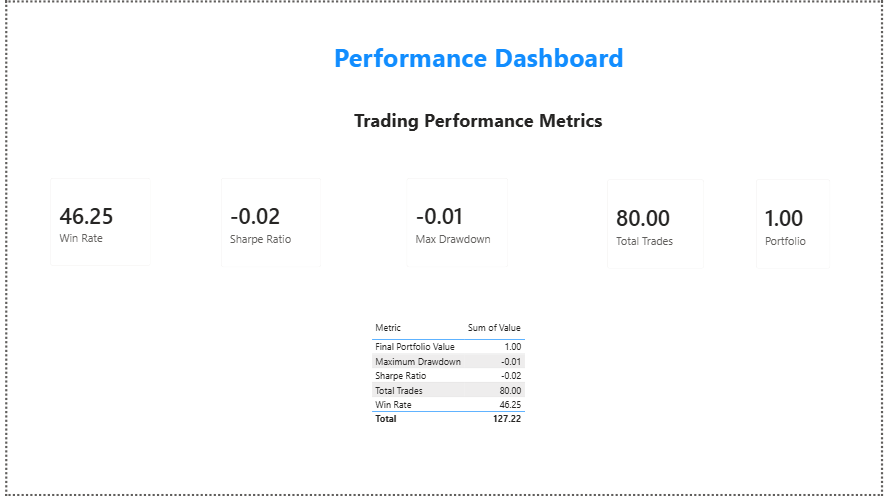

This screenshot's page, from the dashboard's own definition file:
{"tool":"powerbi","page":{"name":"Performance Dashboard","canvas":[1280,720],"ordinal":1},"visuals":[{"type":"textbox","box":[10,0,1186,218],"z":0},{"type":"cardVisual","fields":{"Data":["Sum(performance_summary.Value)"]},"box":[46.7,240,181.7,163.3],"z":1000},{"type":"cardVisual","fields":{"Data":["Sum(performance_summary.Value)"]},"box":[296.7,240,181.7,165],"z":2000},{"type":"cardVisual","fields":{"Data":["Sum(performance_summary.Value)"]},"box":[568.3,240,183.3,165],"z":3000},{"type":"cardVisual","fields":{"Data":["Sum(performance_summary.Value)"]},"box":[1080,241.7,143.3,165],"z":4000},{"type":"cardVisual","fields":{"Data":["Sum(performance_summary.Value)"]},"box":[861.7,241.7,176.7,165],"z":5000},{"type":"tableEx","fields":{"Values":["performance_summary.Metric","Sum(performance_summary.Value)"]},"box":[528.3,460,261.7,211.7],"z":6000}]}

Visuals, with their boxes in screenshot pixels (x1, y1, x2, y2), scaled from the page's 1280x720 canvas onto the 885x497 screenshot:
textbox: {"left": 7, "top": 0, "right": 827, "bottom": 150}
cardVisual - Sum(performance_summary.Value): {"left": 32, "top": 166, "right": 158, "bottom": 278}
cardVisual - Sum(performance_summary.Value): {"left": 205, "top": 166, "right": 331, "bottom": 280}
cardVisual - Sum(performance_summary.Value): {"left": 393, "top": 166, "right": 520, "bottom": 280}
cardVisual - Sum(performance_summary.Value): {"left": 747, "top": 167, "right": 846, "bottom": 281}
cardVisual - Sum(performance_summary.Value): {"left": 596, "top": 167, "right": 718, "bottom": 281}
tableEx - performance_summary.Metric x Sum(performance_summary.Value): {"left": 365, "top": 318, "right": 546, "bottom": 464}
